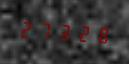eight: (90, 21, 107, 46)
seven: (36, 18, 53, 43)
three: (54, 19, 71, 44)
two: (18, 16, 35, 41), (72, 20, 89, 45)
